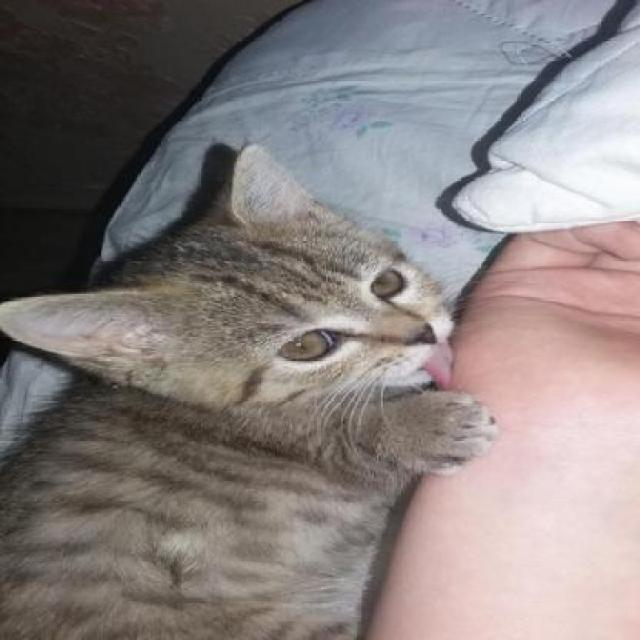cat: (0, 151, 485, 640)
